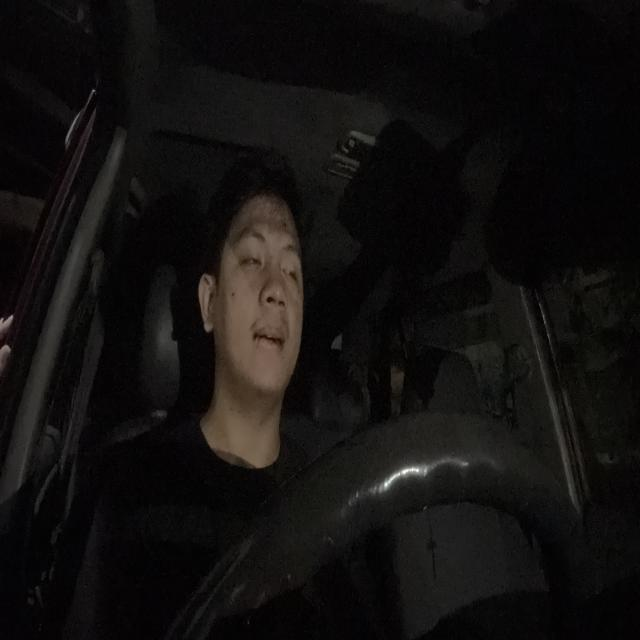close: (232, 227, 268, 281), (280, 240, 302, 289)
